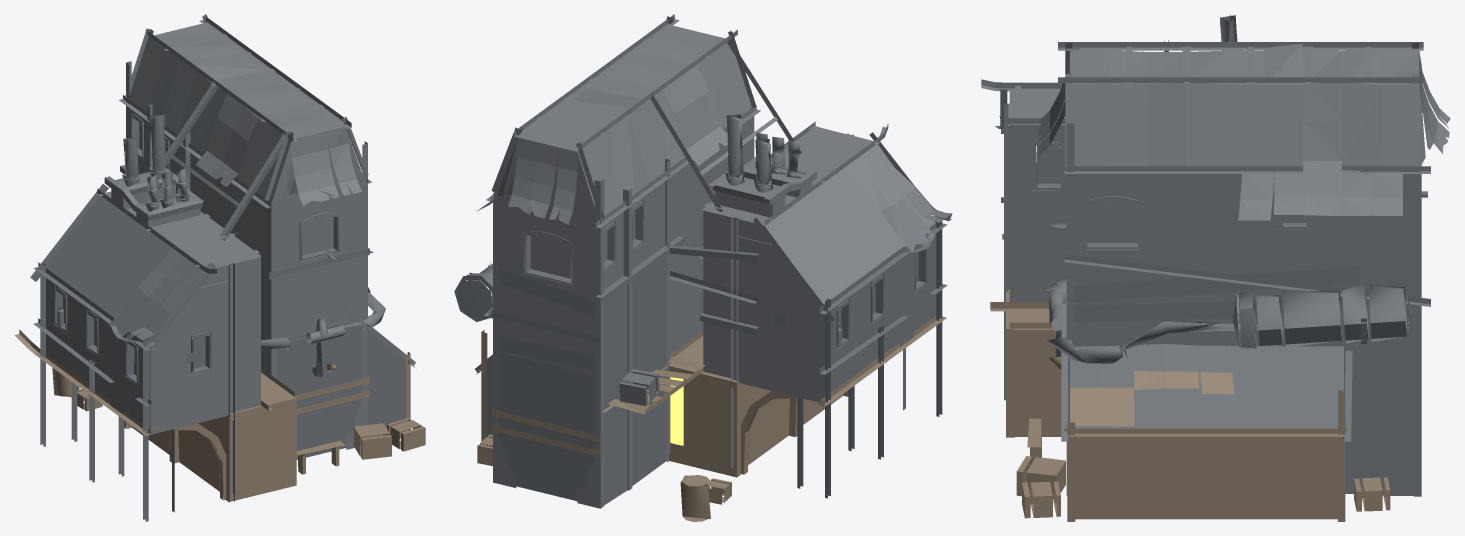
The model's file is bunkhouse.glb.
The picture shows the model from 3 angles, left to right: view 1: azimuth 30°, elevation 25°; view 2: azimuth 150°, elevation 25°; view 3: azimuth 270°, elevation 25°; orthographic projection. The views are drawn at different scales.
Visible parts, largest first — view 1: bunkhouse_Building; view 2: bunkhouse_Building; view 3: bunkhouse_Building.
Part boxes in pixels (x1,y1,x2,y2): bunkhouse_Building: (14, 14, 425, 521); bunkhouse_Building: (454, 14, 952, 521); bunkhouse_Building: (981, 14, 1450, 521).
Size of the model in its own units: 10.33 by 10.65 by 11.05.
